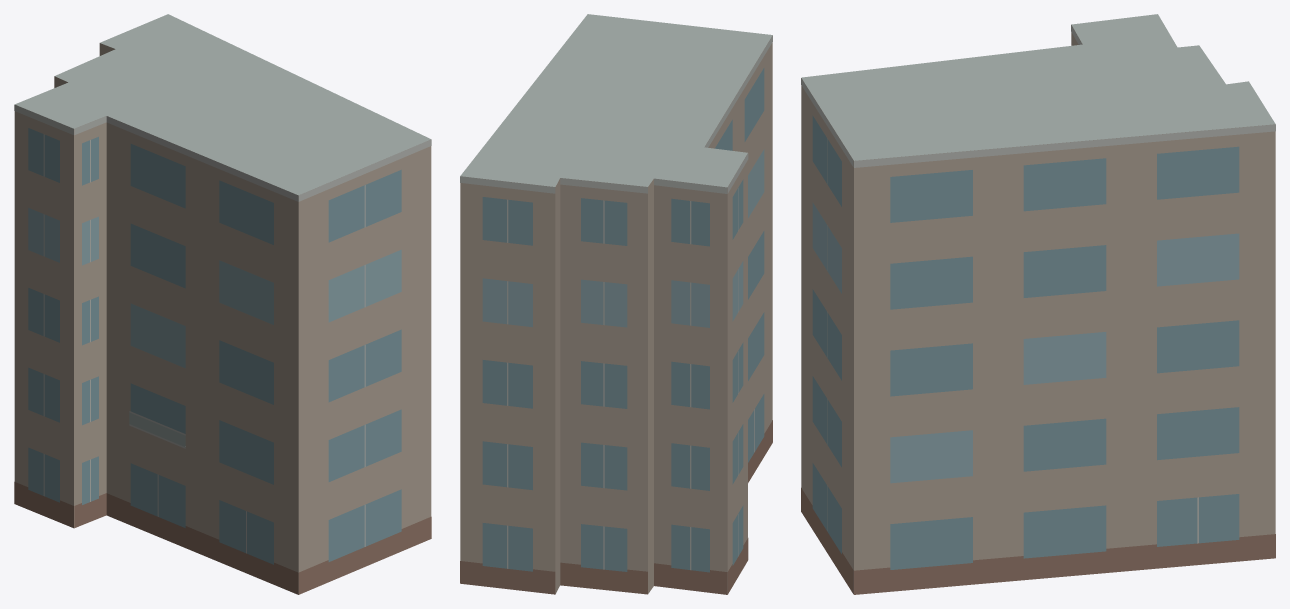
File: survey-upis-32655331.glb
3 renders of one model, left to right at view 1: azimuth 30°, elevation 25°; view 2: azimuth 150°, elevation 25°; view 3: azimuth 270°, elevation 25°, orthographic. The views are drawn at different scales.
Parts seen in each view (by area): view 1: survey-upis-32655331.tmp; view 2: survey-upis-32655331.tmp; view 3: survey-upis-32655331.tmp.
Boxes of the visible parts, left/top/right/bottom form: survey-upis-32655331.tmp: left=14, top=14, right=431, bottom=594; survey-upis-32655331.tmp: left=460, top=14, right=772, bottom=594; survey-upis-32655331.tmp: left=801, top=14, right=1275, bottom=594.
Bounding box in the file's own units: 10.79 × 14.85 × 14.73.
